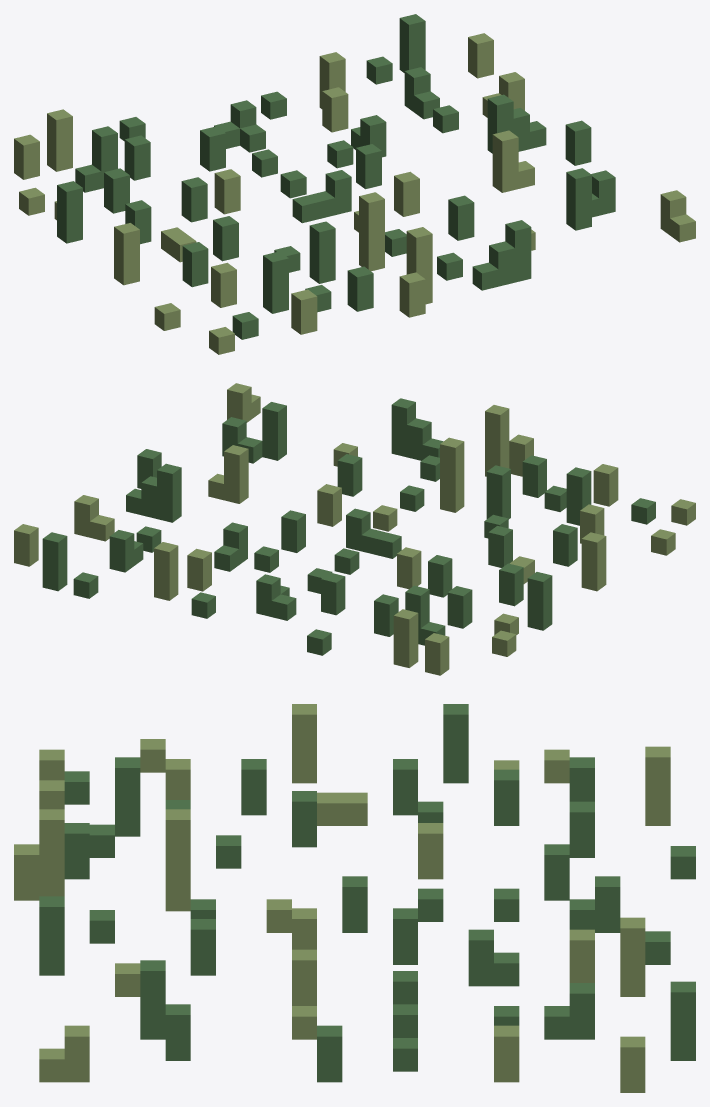
Rendered from TRAWA_RODZAJ1.dae.
The picture shows the model from 3 angles, top to bottom: view 1: azimuth 30°, elevation 25°; view 2: azimuth 150°, elevation 25°; view 3: azimuth 270°, elevation 25°; orthographic projection. The views are drawn at different scales.
Parts seen in each view (by area): view 1: Content; view 2: Content; view 3: Content.
Boxes of the visible parts, x1,y1,x2,y2 form: Content: [14, 14, 695, 354]; Content: [14, 383, 695, 675]; Content: [14, 704, 695, 1092].
Size of the model in its own units: 31 by 4 by 27.
Materials: 1 (1 with a texture image).
